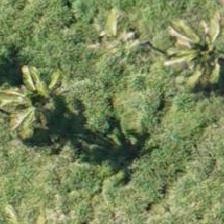coconut_tree: (0, 50, 82, 140), (157, 3, 223, 93)
